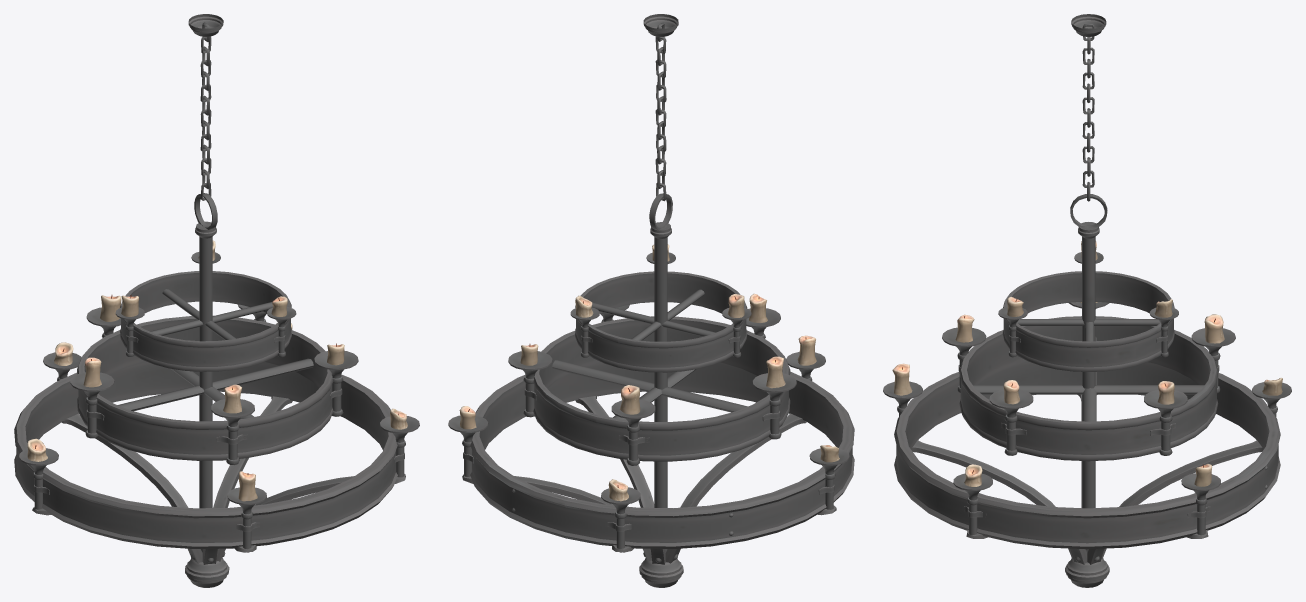
The model's file is SM_Chandelier_03.fbx.
3 views of the same model, side by side, from view 1: azimuth 30°, elevation 25°; view 2: azimuth 150°, elevation 25°; view 3: azimuth 270°, elevation 25° (orthographic).
Parts seen in each view (by area): view 1: SM_Chandelier_03_LOD0; view 2: SM_Chandelier_03_LOD0; view 3: SM_Chandelier_03_LOD0.
Boxes of the visible parts, x1,y1,x2,y2 form: SM_Chandelier_03_LOD0: [14, 14, 419, 587]; SM_Chandelier_03_LOD0: [448, 14, 854, 587]; SM_Chandelier_03_LOD0: [883, 14, 1291, 587].
Size of what is drawn, in the model's own units: 1.83 by 2.79 by 1.84.
